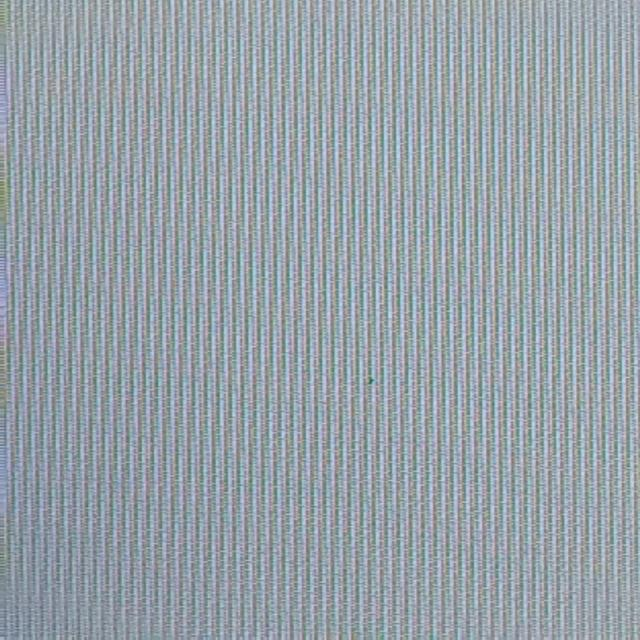Dead pixel: (366, 377, 374, 385)
